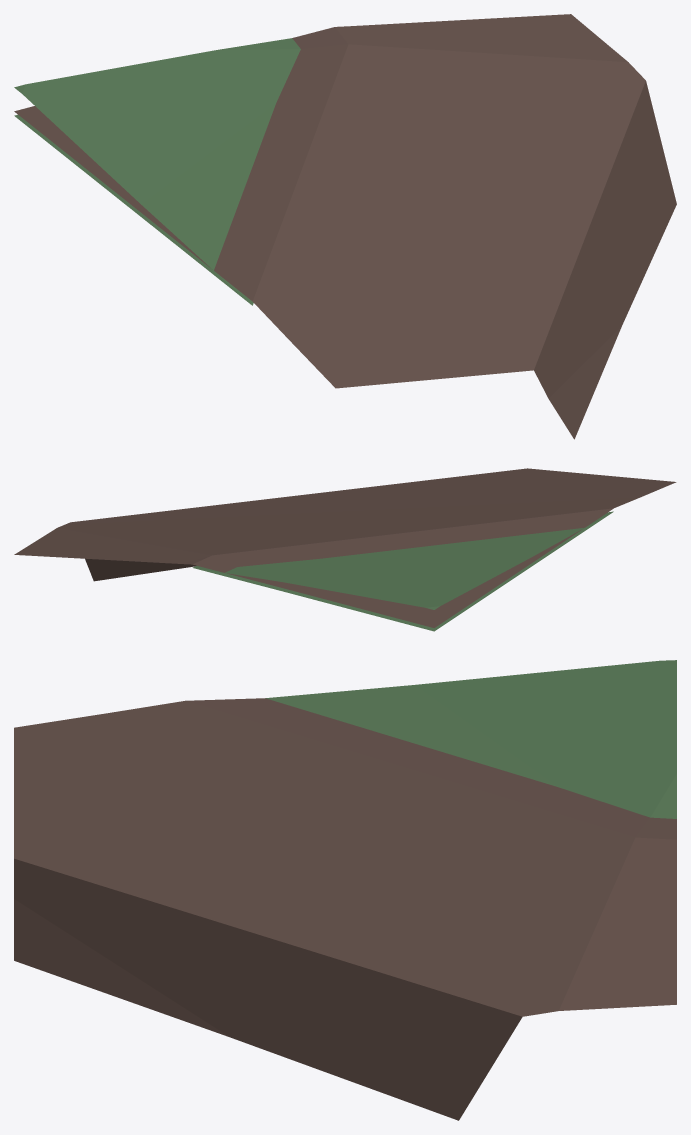
The model's file is cell_337.obj.
3 renders of one model, top to bottom at view 1: azimuth 30°, elevation 25°; view 2: azimuth 150°, elevation 25°; view 3: azimuth 270°, elevation 25°, orthographic. The views are drawn at different scales.
Size of the model in its own units: 1 by 0.301 by 1.
